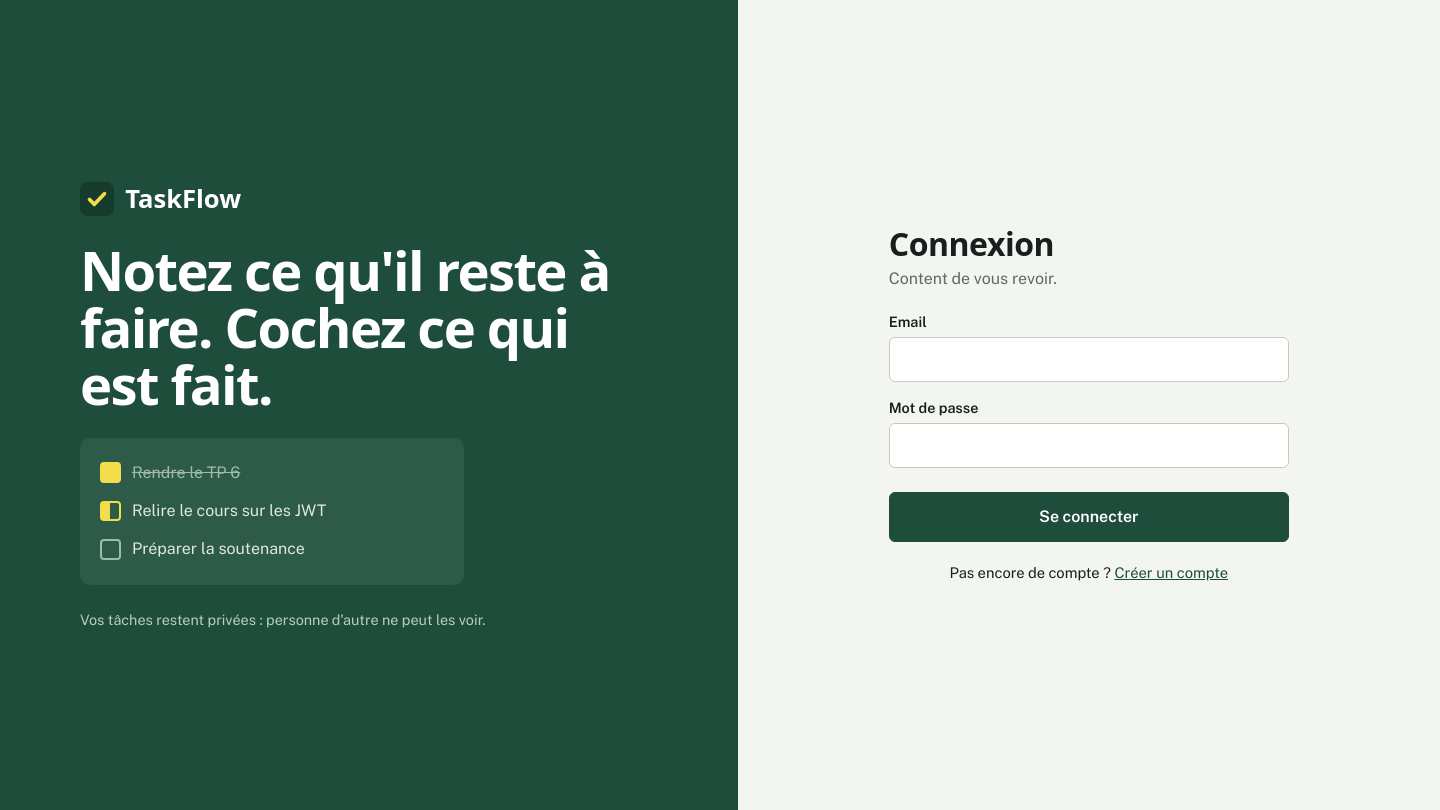
Test: authentification dans React › connexion refusée : message de l'API affiché
This screenshot has width=1440, height=810.
Step 1. Type "alice@example.test" into the field labelled "Email" → (1089, 360), box [889, 337, 1289, 382]
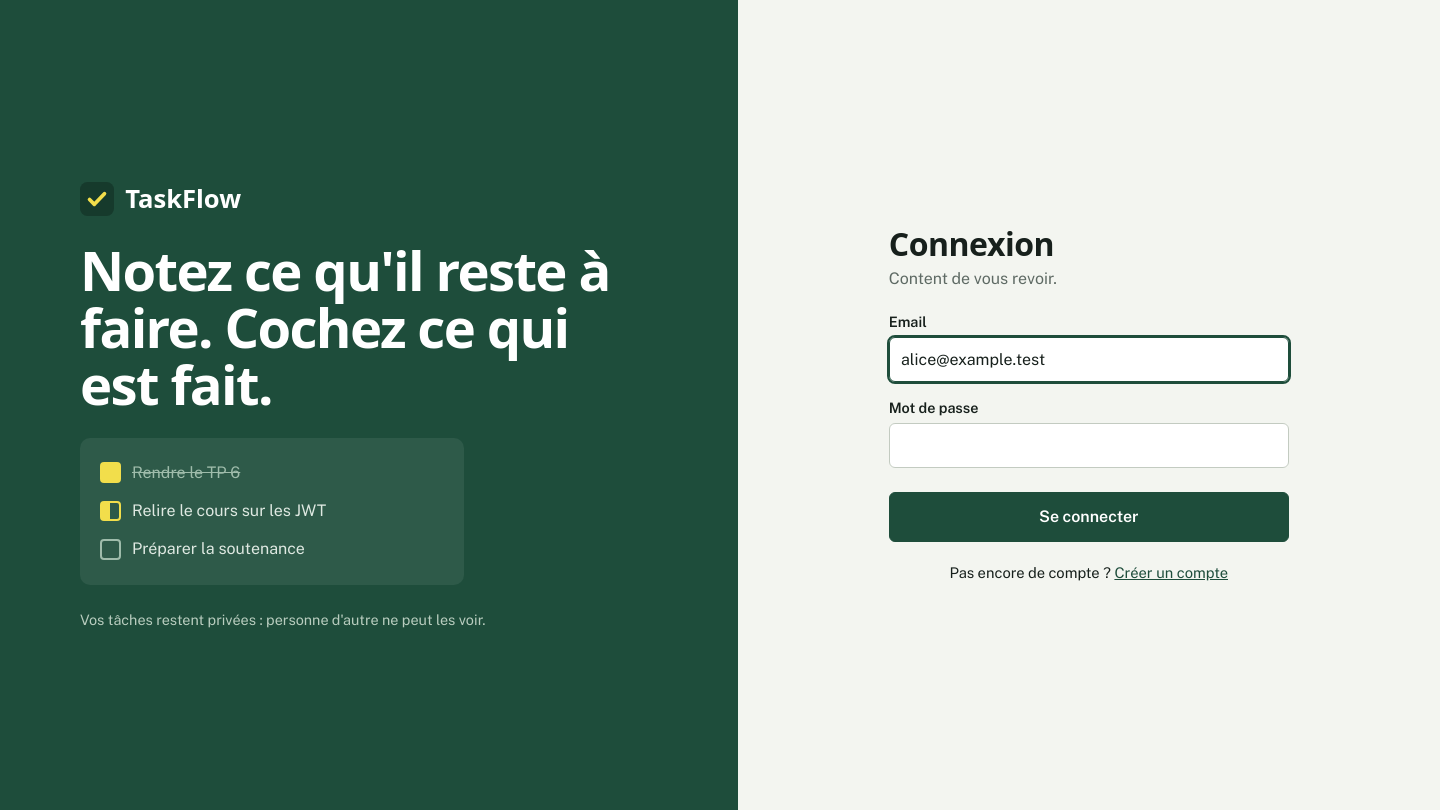
Step 2. Type "mauvais" into the password field labelled "Mot de passe" → (1089, 446), box [889, 423, 1289, 468]
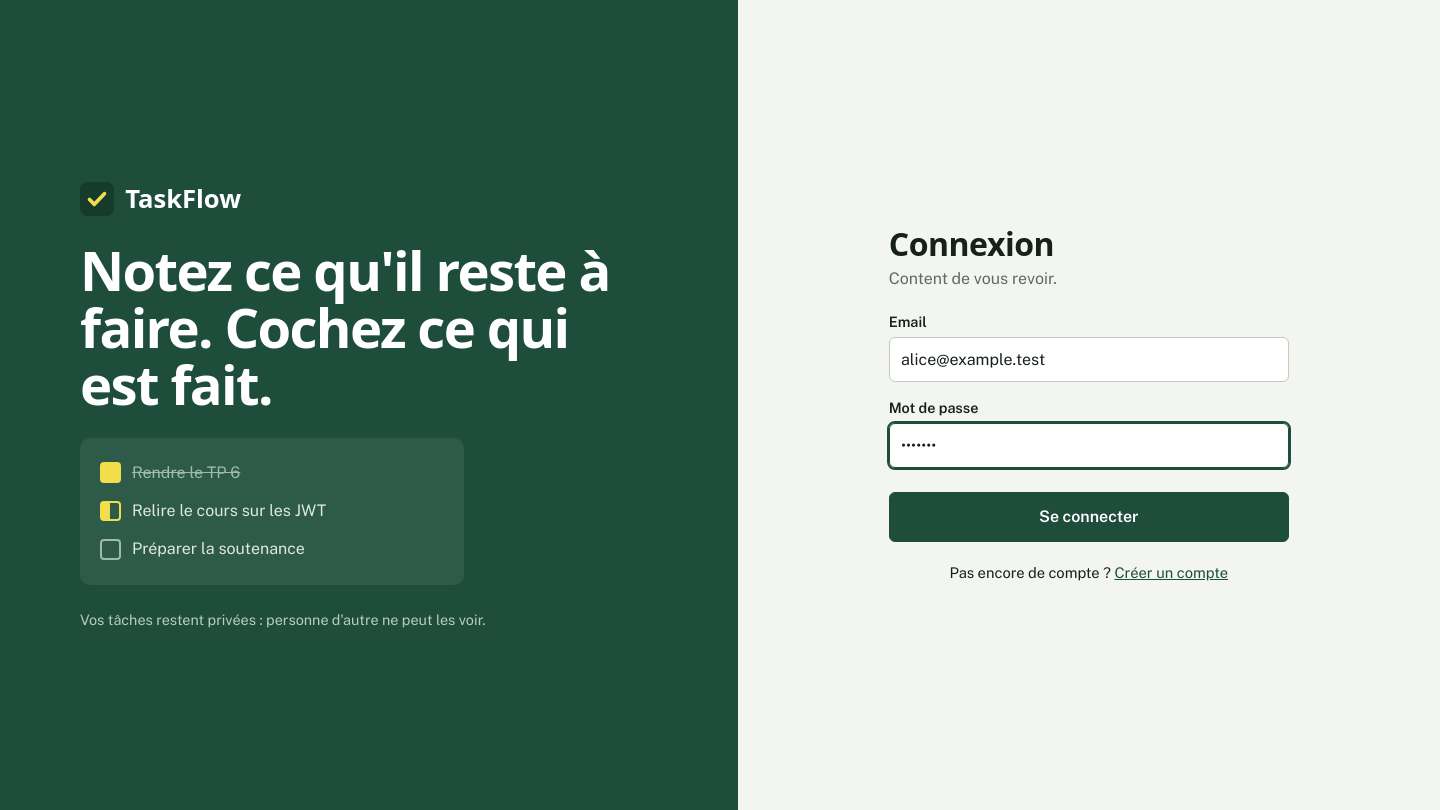
Step 3. Click the button "Se connecter" → click(1089, 517), box [889, 492, 1289, 542]
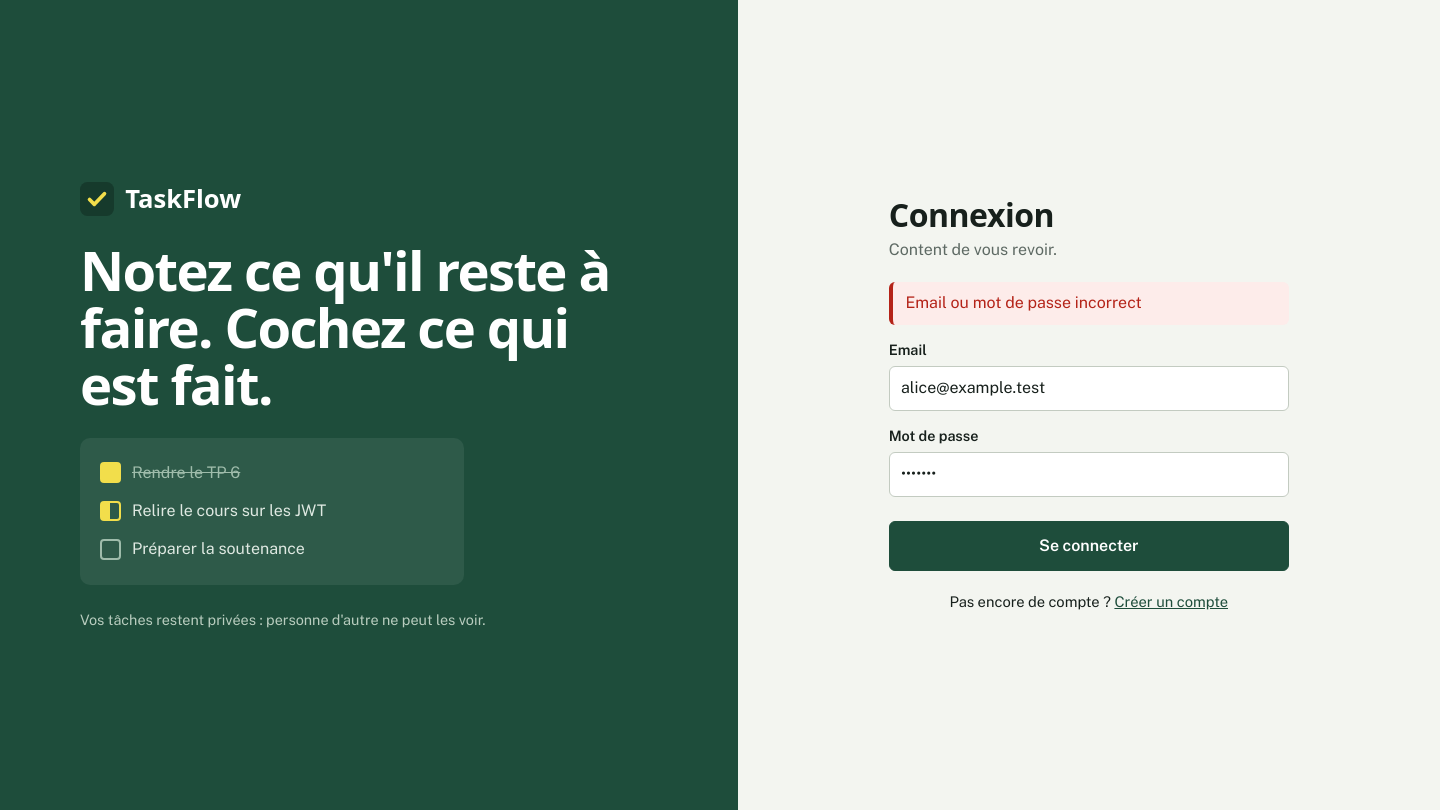
Expected: the message reads "Email ou mot de passe incorrect", [906, 293, 1142, 312]
